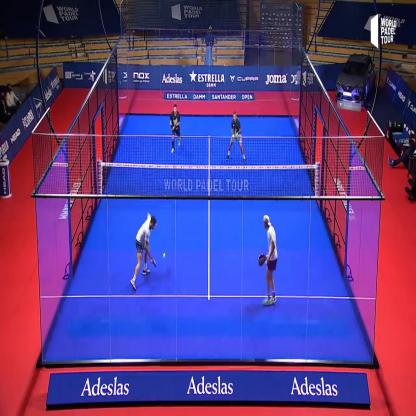ball: (161, 248, 167, 263)
